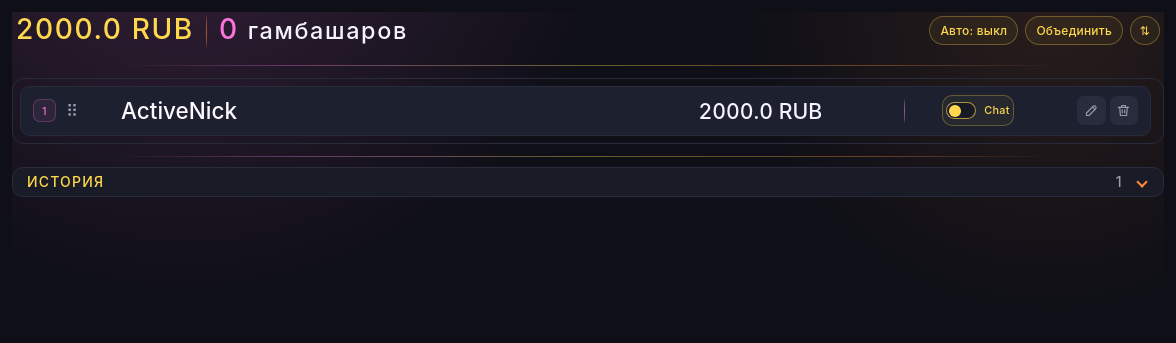
Test case: collapsible sections › shows active entries first and keeps consumed entries collapsed
Check: the text "UsedNick" is not shown
Click the button "ИСТОРИЯ 1".
click(66, 182)  # box [12, 167, 1164, 197]
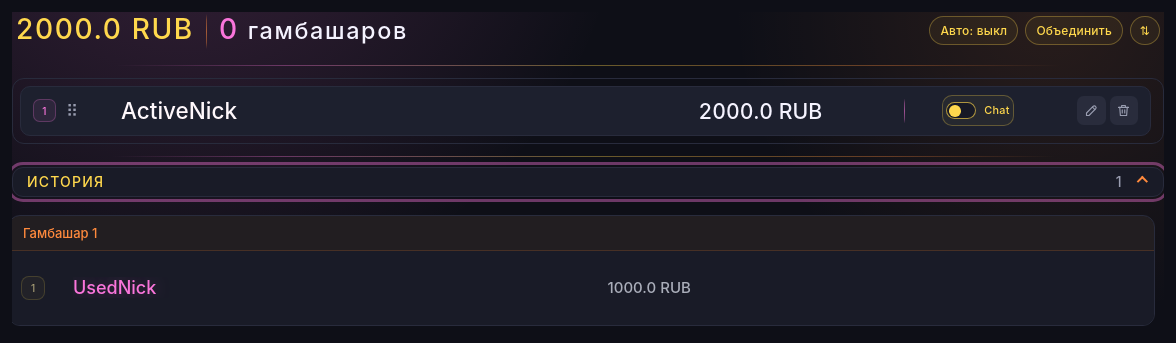
Check: the text "UsedNick" is shown, box [73, 277, 156, 298]
